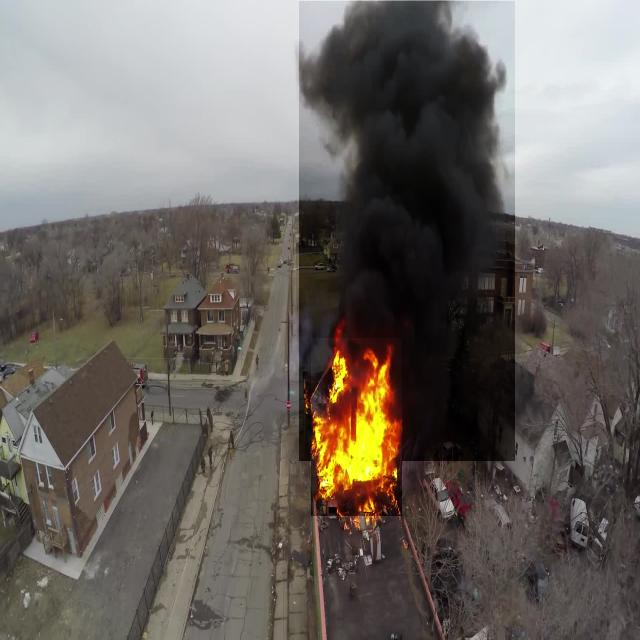Fire: (311, 338, 402, 516)
Smoke: (299, 1, 515, 462)
